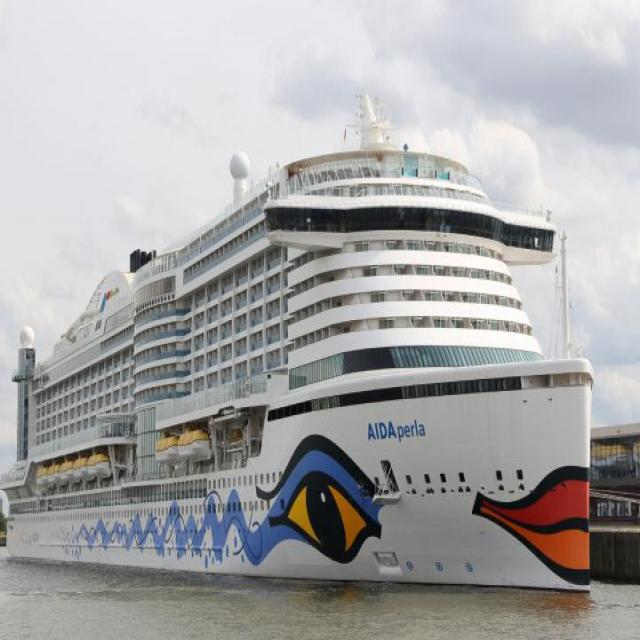cruises: (1, 87, 597, 617)
